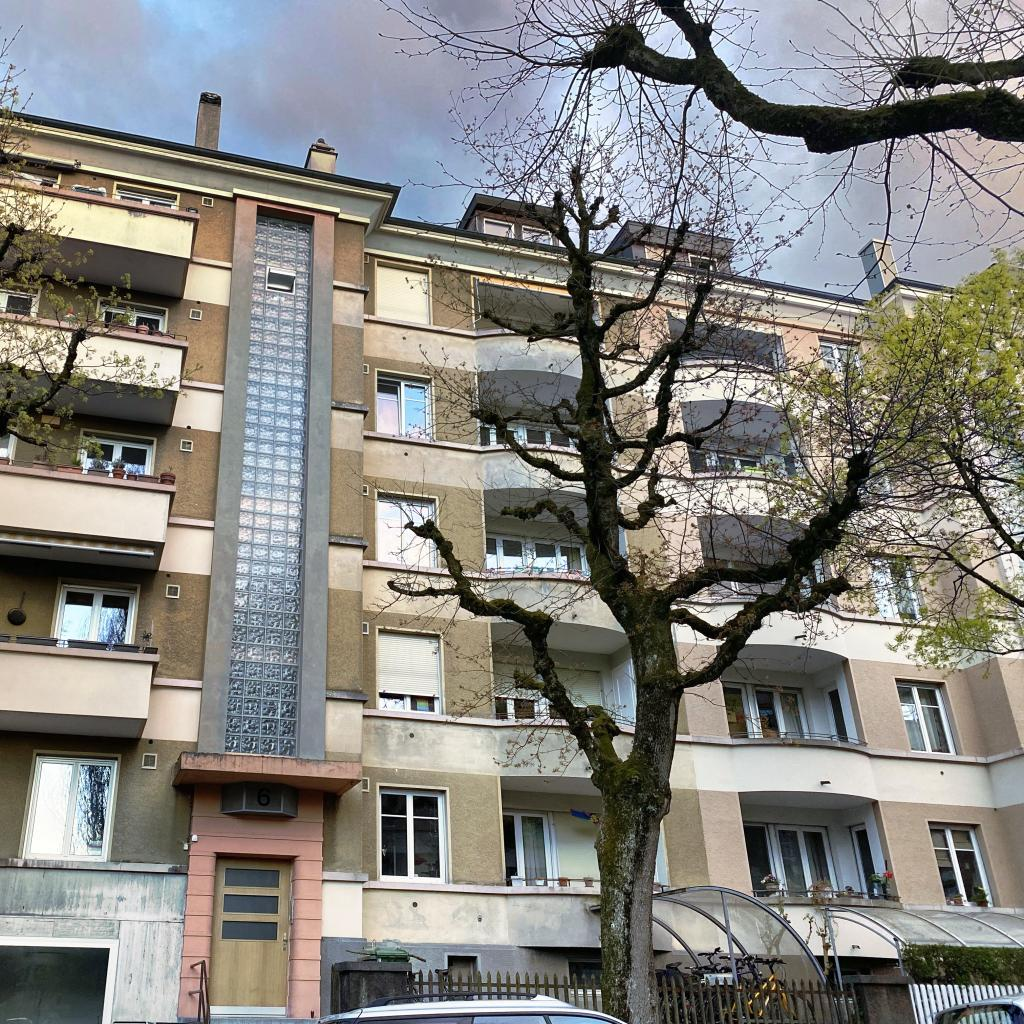balcony-fence: (0, 168, 200, 214), (0, 305, 189, 342), (0, 454, 177, 486), (0, 632, 160, 654), (493, 711, 636, 728), (752, 888, 901, 903), (731, 731, 870, 747), (708, 589, 832, 604), (678, 354, 778, 371), (690, 464, 791, 478), (504, 876, 601, 887), (485, 566, 591, 576), (479, 438, 577, 448), (475, 325, 554, 332)
car: (314, 989, 628, 1024), (932, 993, 1024, 1024)
facade: (0, 89, 1024, 1024)
fence: (329, 959, 1024, 1024), (187, 959, 211, 1024)
non-building-infrastructure: (656, 885, 1024, 981), (0, 947, 108, 1024)
vegetation: (342, 0, 1024, 1024), (0, 22, 205, 468), (899, 941, 1024, 984), (798, 878, 841, 982), (760, 873, 790, 981), (869, 871, 890, 889), (970, 885, 988, 903)
window: (224, 206, 313, 755), (20, 752, 119, 862), (502, 806, 634, 887), (742, 821, 843, 897), (376, 784, 450, 884), (491, 659, 609, 720), (927, 819, 1000, 905), (376, 627, 445, 715), (52, 582, 136, 653), (722, 679, 817, 739), (894, 675, 961, 755), (376, 490, 439, 568), (485, 530, 591, 576), (865, 551, 930, 621), (376, 368, 435, 439), (78, 429, 154, 482), (702, 556, 794, 597), (375, 259, 432, 325), (478, 419, 578, 450), (817, 333, 870, 391), (847, 821, 885, 899), (97, 299, 167, 338), (843, 446, 892, 499), (687, 442, 767, 472), (115, 183, 178, 210), (825, 686, 850, 741), (0, 281, 38, 316), (483, 218, 513, 239), (0, 421, 14, 464), (522, 225, 552, 245), (645, 246, 676, 264), (688, 254, 719, 271), (782, 451, 800, 477)
